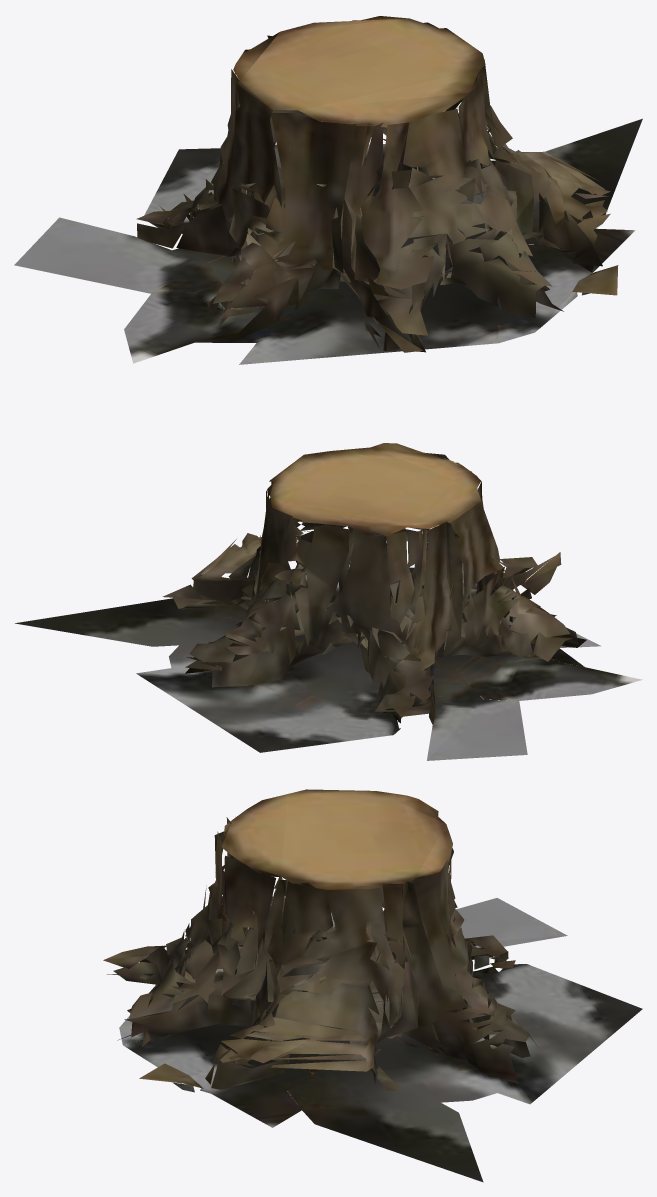
The model's file is acacia_espinhosa_toco.glb.
3 renders of one model, top to bottom at view 1: azimuth 30°, elevation 25°; view 2: azimuth 150°, elevation 25°; view 3: azimuth 270°, elevation 25°, orthographic. The views are drawn at different scales.
Parts seen in each view (by area): view 1: geometry_0; view 2: geometry_0; view 3: geometry_0.
Boxes of the visible parts, x1,y1,x2,y2 form: geometry_0: [14, 16, 642, 364]; geometry_0: [15, 443, 642, 760]; geometry_0: [103, 789, 642, 1182].
Bounding box in the file's own units: 0.386 × 0.1167 × 0.3491.
1 material, 1 textured.
